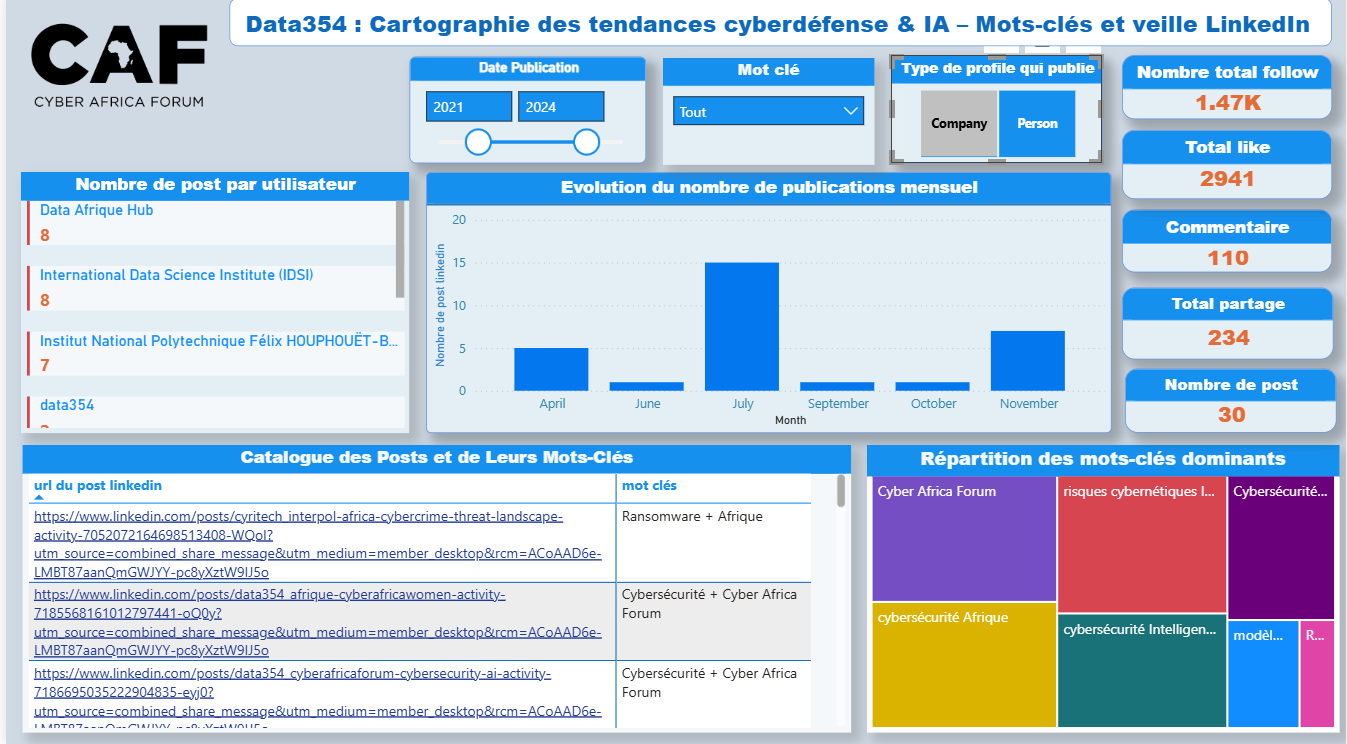

This screenshot's page, from the dashboard's own definition file:
{"tool":"powerbi","page":{"name":"CAF","canvas":[1280,720],"ordinal":0},"visuals":[{"type":"slicer","title":"Date Publication","fields":{"Values":["dataset_linkedin-data354_.Date_de post.Variation.Date Hierarchy.Year"]},"box":[385.3,61.6,226.3,101.7],"z":0},{"type":"slicer","title":"Type de profile qui publie","fields":{"Values":["dataset_linkedin-data354_.type_d'utilisateur"]},"box":[845.1,60.2,202,103.1],"z":1000},{"type":"card","title":"Nombre total follow","fields":{"Values":["dataset_linkedin-data354_.nombre de followers"]},"box":[1065.7,60.2,200.5,61.6],"z":2000},{"type":"clusteredColumnChart","title":"Evolution du nombre de publications mensuel","fields":{"Category":["dataset_linkedin-data354_.Date_de post.Variation.Date Hierarchy.Month"],"Y":["dataset_linkedin-data354_.post linkedin"]},"box":[401.1,171.9,654.6,249.2],"z":3000},{"type":"card","title":"Commentaire","fields":{"Values":["dataset_linkedin-data354_.Nombre_commentaire"]},"box":[1065.7,207.7,200.5,60.2],"z":4000},{"type":"textbox","box":[213.4,5.7,1052.8,45.8],"z":5000},{"type":"card","title":"Total like","fields":{"Values":["dataset_linkedin-data354_.nombre de like"]},"box":[1065.7,131.8,200.5,65.9],"z":6000},{"type":"card","title":"Total partage","fields":{"Values":["dataset_linkedin-data354_.nombre de partage"]},"box":[1065.7,282.2,202,68.8],"z":7000},{"type":"treemap","title":"Répartition des mots-clés dominants","fields":{"Group":["dataset_linkedin-data354_.mot clés"],"Values":["dataset_linkedin-data354_.mot clés"]},"box":[821.5,432.7,451.2,274.4],"z":8000},{"type":"multiRowCard","title":"Nombre de post par utilisateur","fields":{"Values":["dataset_linkedin-data354_.nombre de post","dataset_linkedin-data354_.nom_auteur2"]},"box":[14.3,171.9,371,249.2],"z":9000},{"type":"slicer","title":"Mot clé","fields":{"Values":["dataset_linkedin_data354_.mot clés"]},"box":[627.4,63,202,101.7],"z":10000},{"type":"tableEx","title":"Catalogue des Posts et de Leurs Mots-Clés","fields":{"Values":["dataset_linkedin_data354_.url du post linkedin","dataset_linkedin_data354_.mot clés"]},"box":[15.2,432.7,791.2,274.4],"z":11000},{"type":"card","title":"Nombre de post","fields":{"Values":["dataset_linkedin_data354_.nombre de post"]},"box":[1068.6,359.5,202,61.6],"z":12000},{"type":"image","box":[15.8,5.7,184.8,126.1],"z":13000}]}

Visuals, with their boxes in screenshot pixels (x1, y1, x2, y2), scaled from the page's 1280x720 canvas onto the 1347x744 screenshot:
"Date Publication" slicer: 405 64 644 169
"Type de profile qui publie" slicer: 889 62 1102 169
"Nombre total follow" card: 1121 62 1332 126
"Evolution du nombre de publications mensuel" clusteredColumnChart: 422 178 1111 435
"Commentaire" card: 1121 215 1332 277
textbox: 225 6 1332 53
"Total like" card: 1121 136 1332 204
"Total partage" card: 1121 292 1334 363
"Répartition des mots-clés dominants" treemap: 865 447 1339 731
"Nombre de post par utilisateur" multiRowCard: 15 178 405 435
"Mot clé" slicer: 660 65 873 170
"Catalogue des Posts et de Leurs Mots-Clés" tableEx: 16 447 849 731
"Nombre de post" card: 1125 371 1337 435
image: 17 6 211 136
